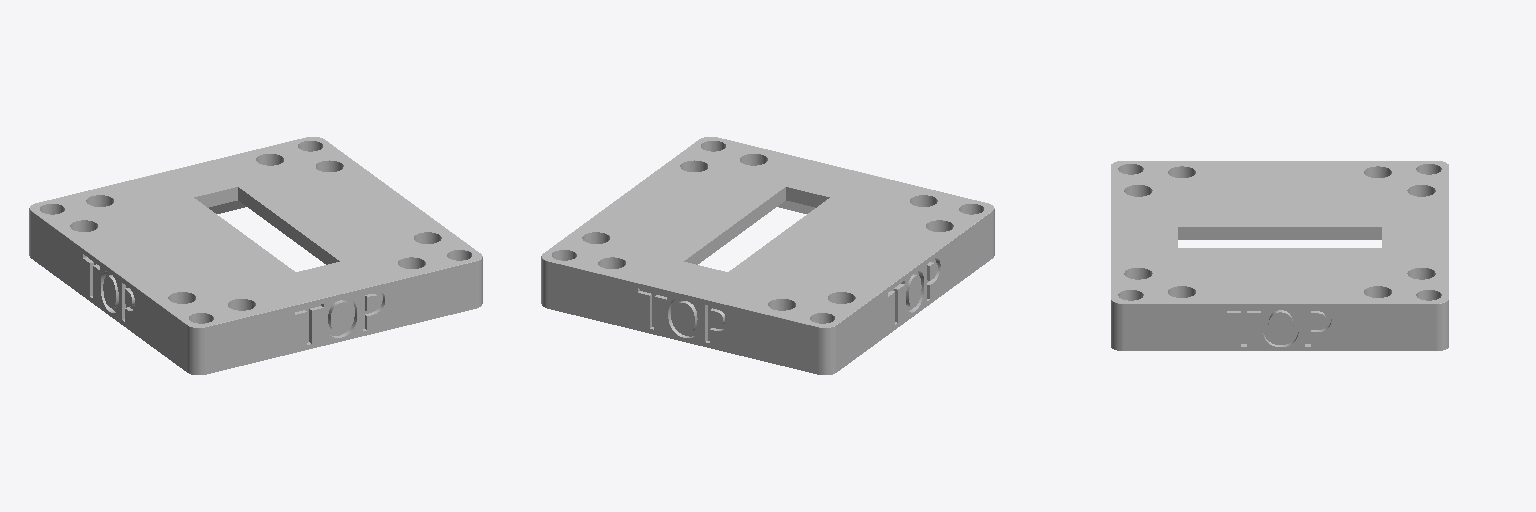
Rendered from V5_Cube 1x1 Top V5 Closed Slotted.obj.
3 views of the same model, side by side, from view 1: azimuth 30°, elevation 25°; view 2: azimuth 150°, elevation 25°; view 3: azimuth 270°, elevation 25° (orthographic).
Parts seen in each view (by area): view 1: Solid1:4; view 2: Solid1:4; view 3: Solid1:4.
Boxes of the visible parts, x1=… form: Solid1:4: x1=29, y1=137, x2=482, y2=374; Solid1:4: x1=541, y1=137, x2=994, y2=374; Solid1:4: x1=1111, y1=161, x2=1448, y2=350.
Size of the model in its own units: 49.8 by 7.7 by 49.8.